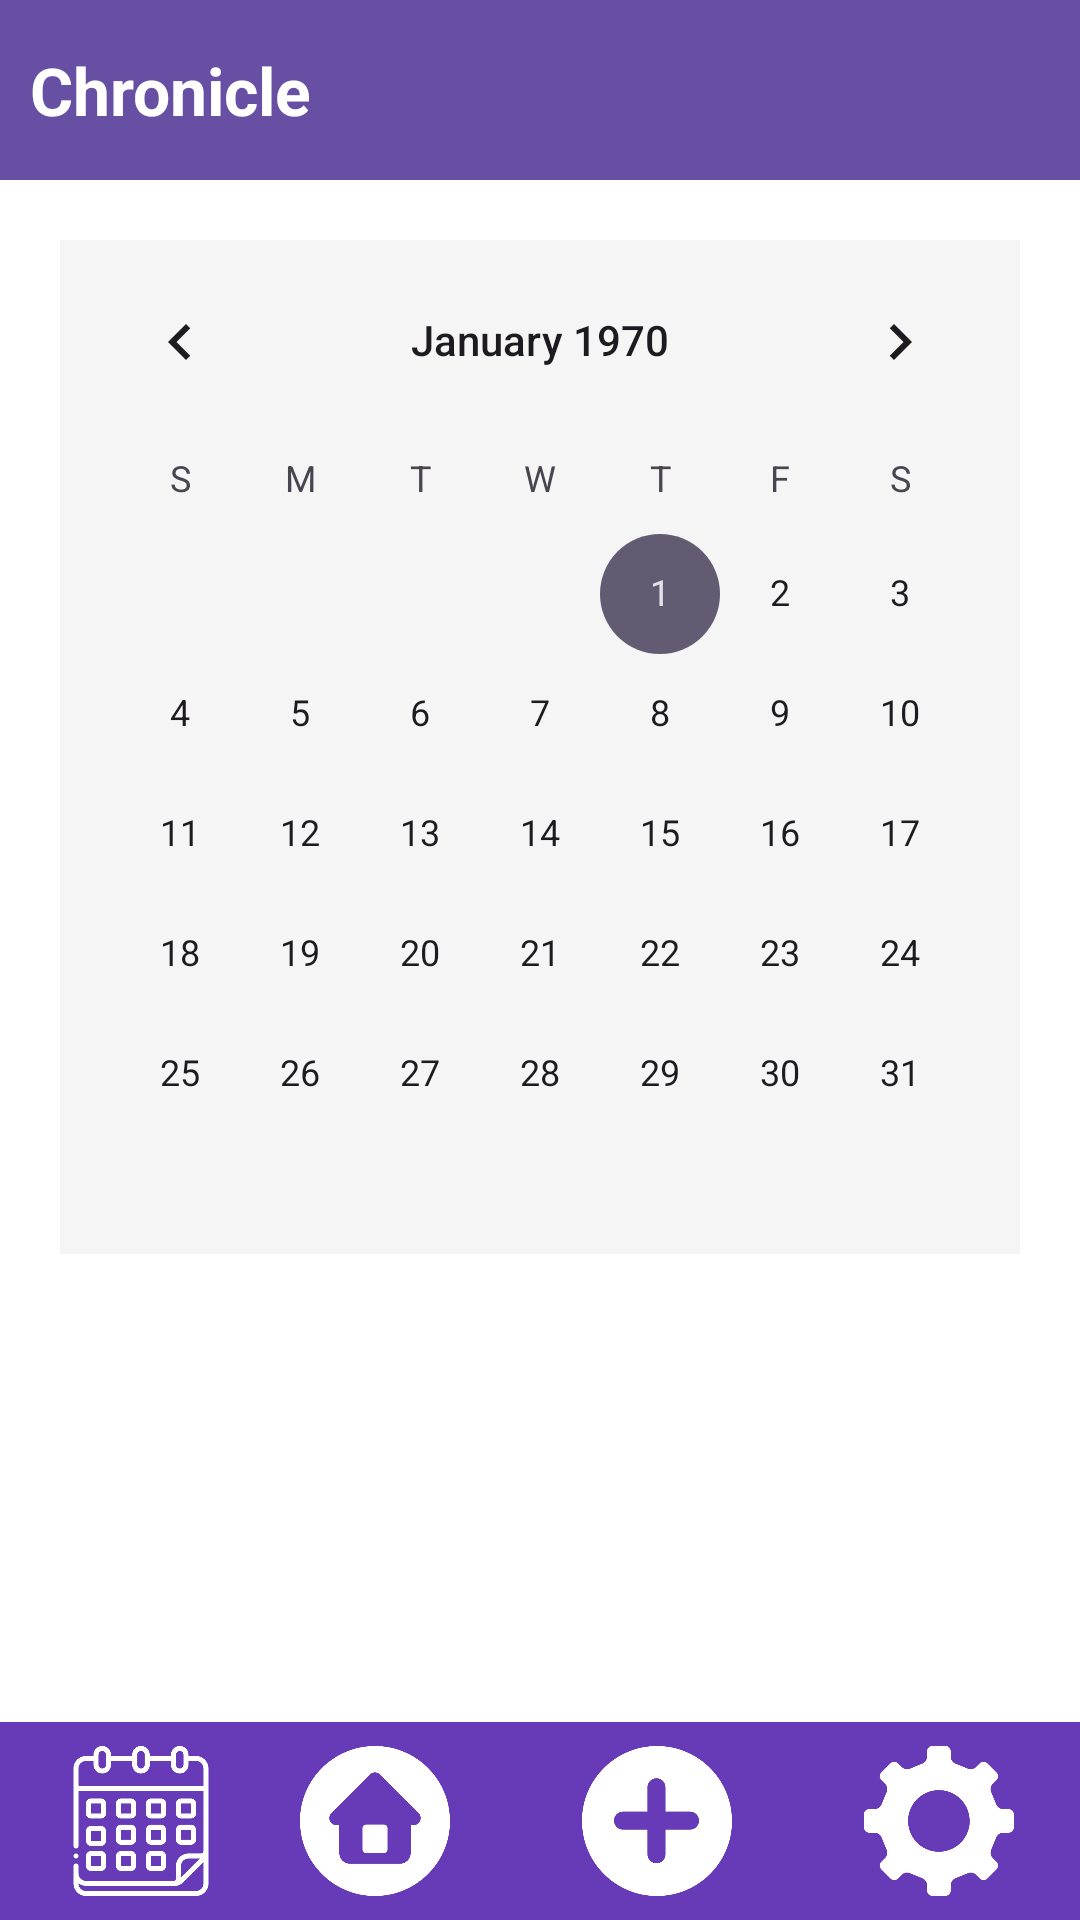

Named icons in this screenshot (1080w x 1920h) and their centers, point (x, y):
Calendar: point (141, 1821)
Create: point (657, 1821)
Dashboard: point (375, 1821)
Settings: point (939, 1821)
